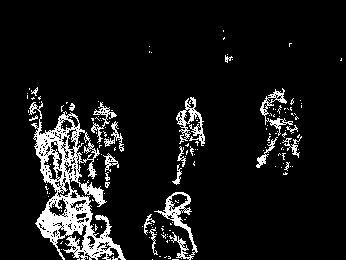person: (144, 191, 198, 259), (175, 95, 205, 185), (37, 194, 78, 259), (256, 86, 283, 166), (91, 100, 125, 163), (279, 97, 304, 174), (84, 139, 112, 205), (84, 215, 125, 260), (39, 128, 65, 198), (55, 102, 77, 178), (70, 197, 95, 259), (23, 87, 44, 151)
